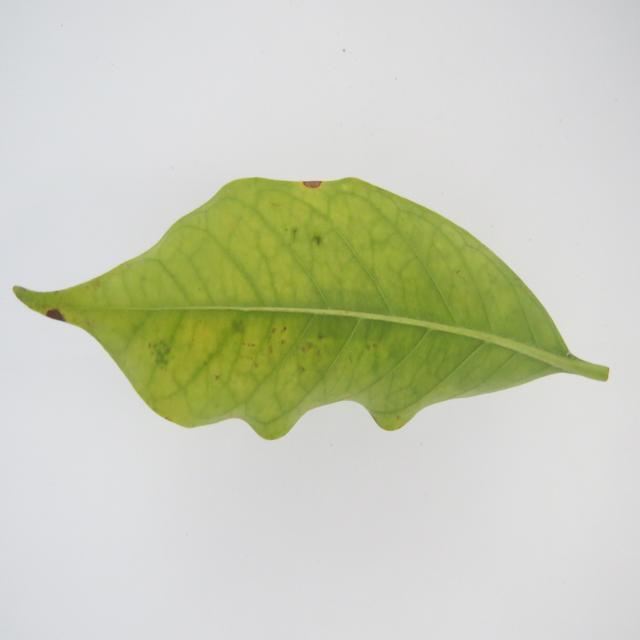DeficienciaNutricional-Calcio: (14, 178, 609, 438)
